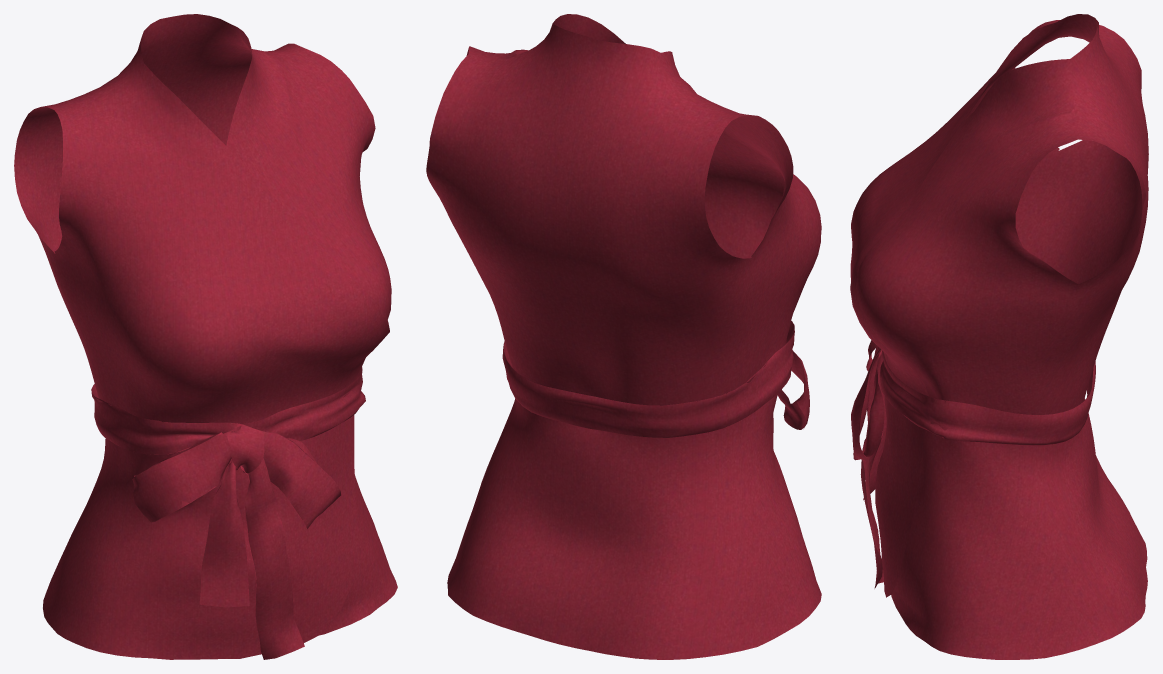
The model's file is women_top_with_belt.glb.
3 renders of one model, left to right at view 1: azimuth 30°, elevation 25°; view 2: azimuth 150°, elevation 25°; view 3: azimuth 270°, elevation 25°, orthographic. The views are drawn at different scales.
Parts seen in each view (by area): view 1: Lp_02; view 2: Lp_02; view 3: Lp_02.
Part boxes in pixels (box(x1,y1,x2,y2)): Lp_02: box(14, 14, 397, 659); Lp_02: box(426, 14, 821, 659); Lp_02: box(850, 14, 1148, 659).
Size of the model in its own units: 1.19 by 2 by 0.9654.
Materials: 1 (1 with a texture image).
